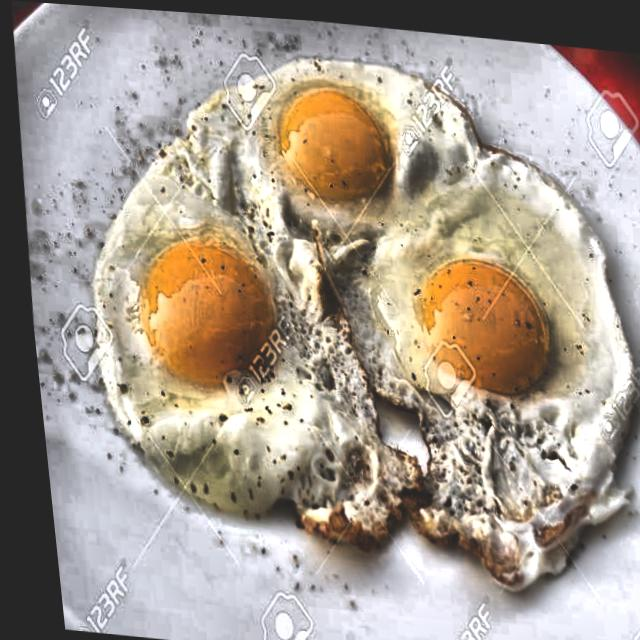Food: (49, 24, 640, 591)
